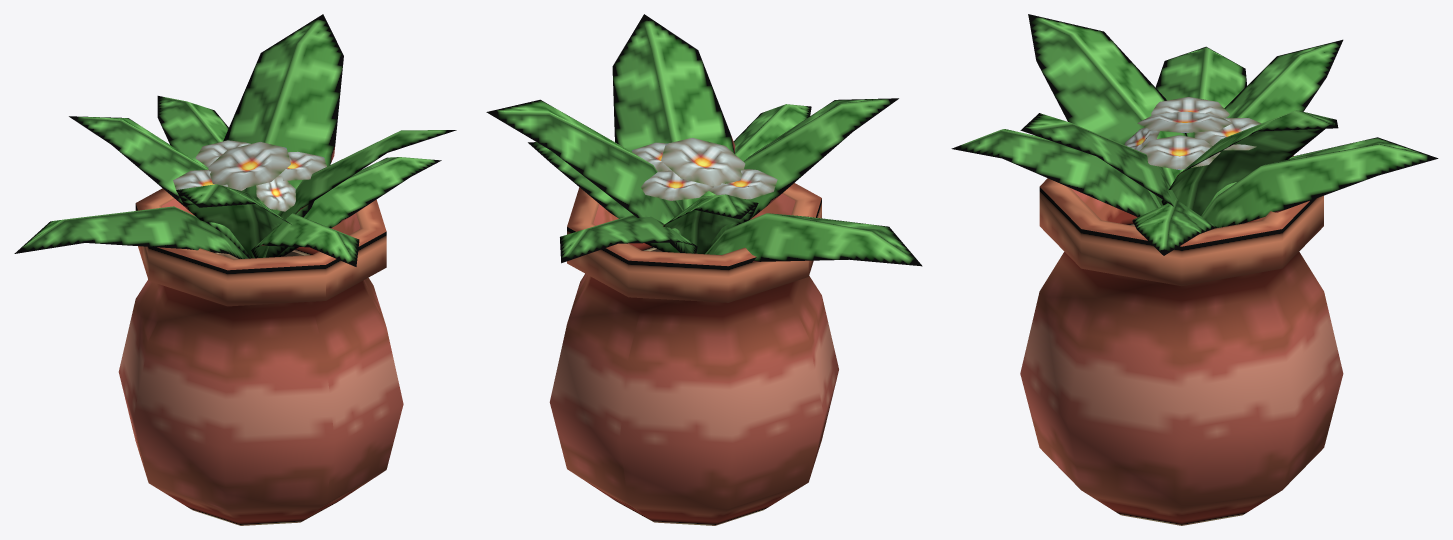
File: deco_vesselAFlowers.FBX
The picture shows the model from 3 angles, left to right: view 1: azimuth 30°, elevation 25°; view 2: azimuth 150°, elevation 25°; view 3: azimuth 270°, elevation 25°; orthographic projection. The views are drawn at different scales.
Visible parts, largest first — view 1: deco_vesselAFlowers; view 2: deco_vesselAFlowers; view 3: deco_vesselAFlowers.
Part boxes in pixels (bbox=[...]): deco_vesselAFlowers: bbox=[14, 14, 456, 525]; deco_vesselAFlowers: bbox=[486, 14, 922, 525]; deco_vesselAFlowers: bbox=[951, 14, 1438, 525].
Size of the model in its own units: 2.18 by 2.01 by 2.06.
1 material, 1 textured.
